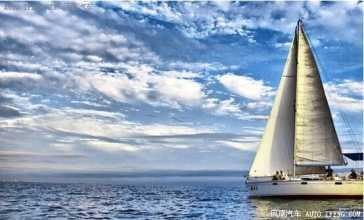fanchuan: (246, 12, 364, 198)
